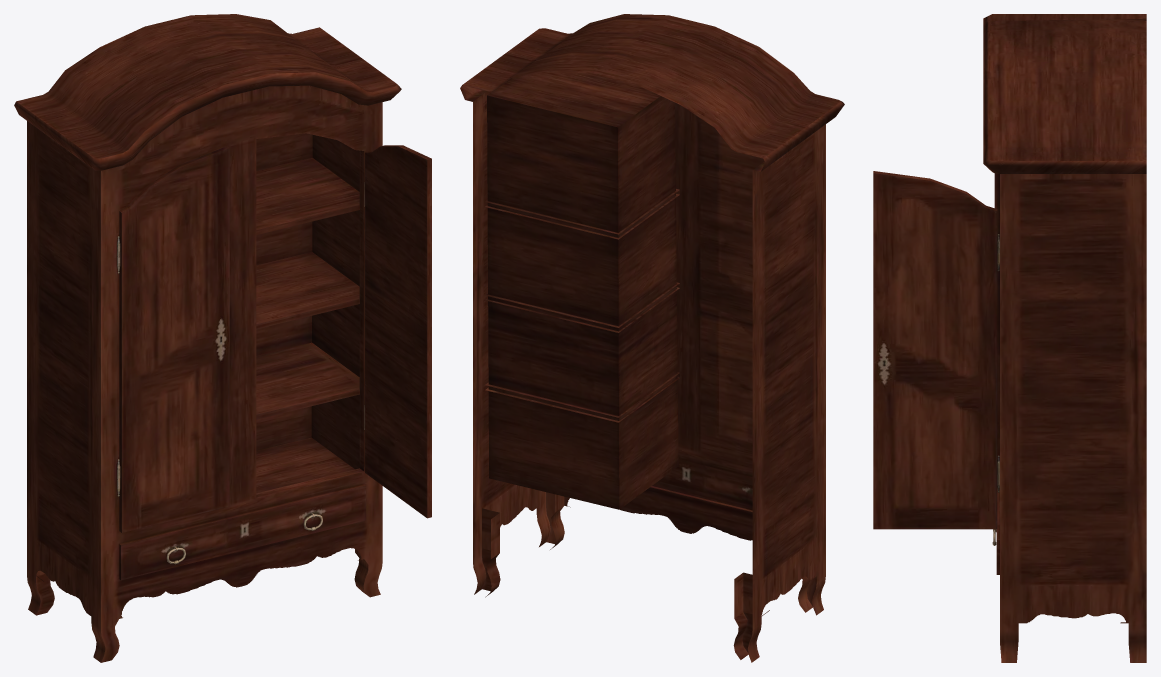
Rendered from wardrobe_cupboard_lucas_garnier.glb.
The picture shows the model from 3 angles, left to right: view 1: azimuth 30°, elevation 25°; view 2: azimuth 150°, elevation 25°; view 3: azimuth 270°, elevation 25°; orthographic projection.
Visible parts, largest first — view 1: porte_lambert1_0; view 2: porte_lambert1_0; view 3: porte_lambert1_0.
Boxes of the visible parts, x1,y1,x2,y2 form: porte_lambert1_0: [14, 14, 431, 662]; porte_lambert1_0: [460, 14, 844, 662]; porte_lambert1_0: [873, 14, 1146, 662].
Bounding box in the file's own units: 220 × 379 × 170.
Materials: 1 (1 with a texture image).
